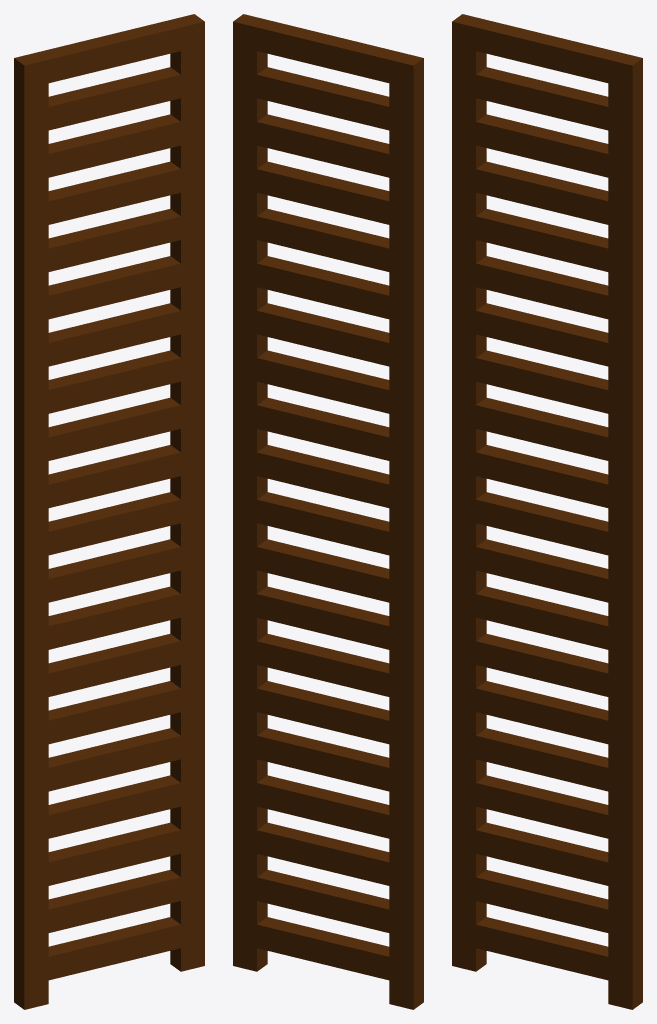
Rendered from escalera.obj.
The picture shows the model from 3 angles, left to right: view 1: azimuth 30°, elevation 25°; view 2: azimuth 150°, elevation 25°; view 3: azimuth 330°, elevation 25°; orthographic projection.
Visible parts, largest first — view 1: Ladder.006; view 2: Ladder.006; view 3: Ladder.006.
Part boxes in pixels (x1,y1,x2,y2): Ladder.006: [14, 14, 204, 1009]; Ladder.006: [233, 14, 423, 1009]; Ladder.006: [452, 14, 642, 1009].
Size of the model in its own units: 2 by 10 by 0.2001.
1 material, 1 textured.
